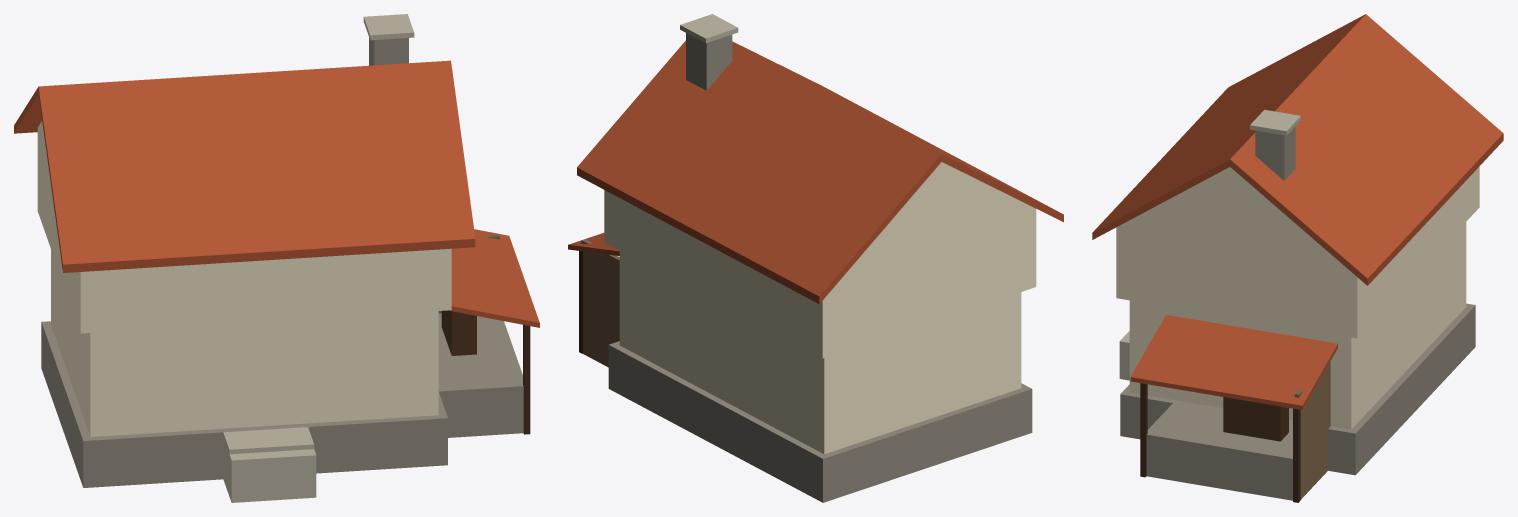
The model's file is SM_Millbrook_House2.fbx.
The picture shows the model from 3 angles, left to right: view 1: azimuth 30°, elevation 25°; view 2: azimuth 150°, elevation 25°; view 3: azimuth 270°, elevation 25°; orthographic projection. The views are drawn at different scales.
Visible parts, largest first — view 1: SM_Millbrook_House2; view 2: SM_Millbrook_House2; view 3: SM_Millbrook_House2.
Part boxes in pixels (x1,y1,x2,y2): SM_Millbrook_House2: (14,14,539,502); SM_Millbrook_House2: (568,14,1063,502); SM_Millbrook_House2: (1092,14,1503,502).
Bounding box in the file's own units: 12.16 × 8.8 × 10.
